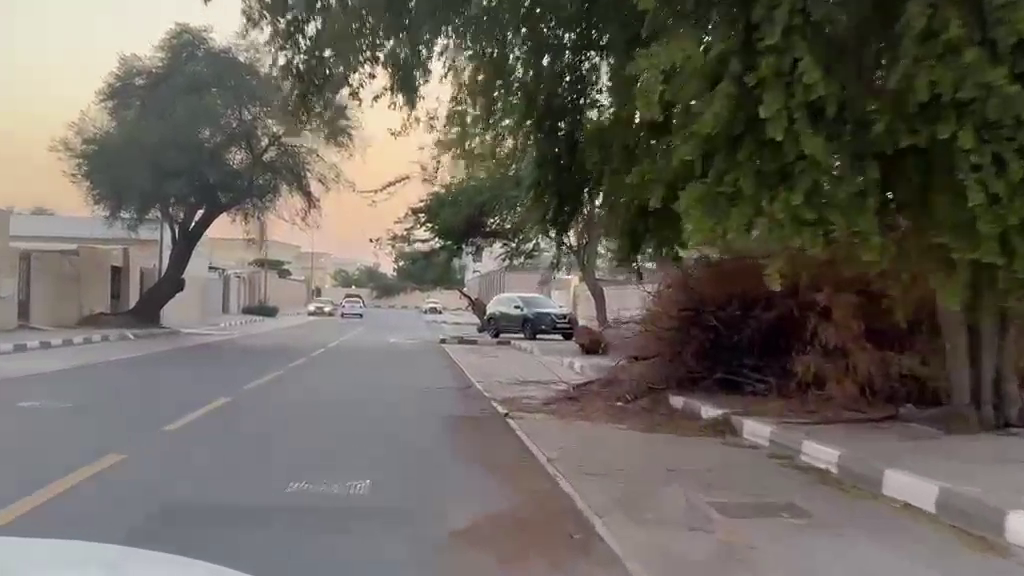Plastic: (540, 366, 750, 449), (461, 290, 484, 320)
